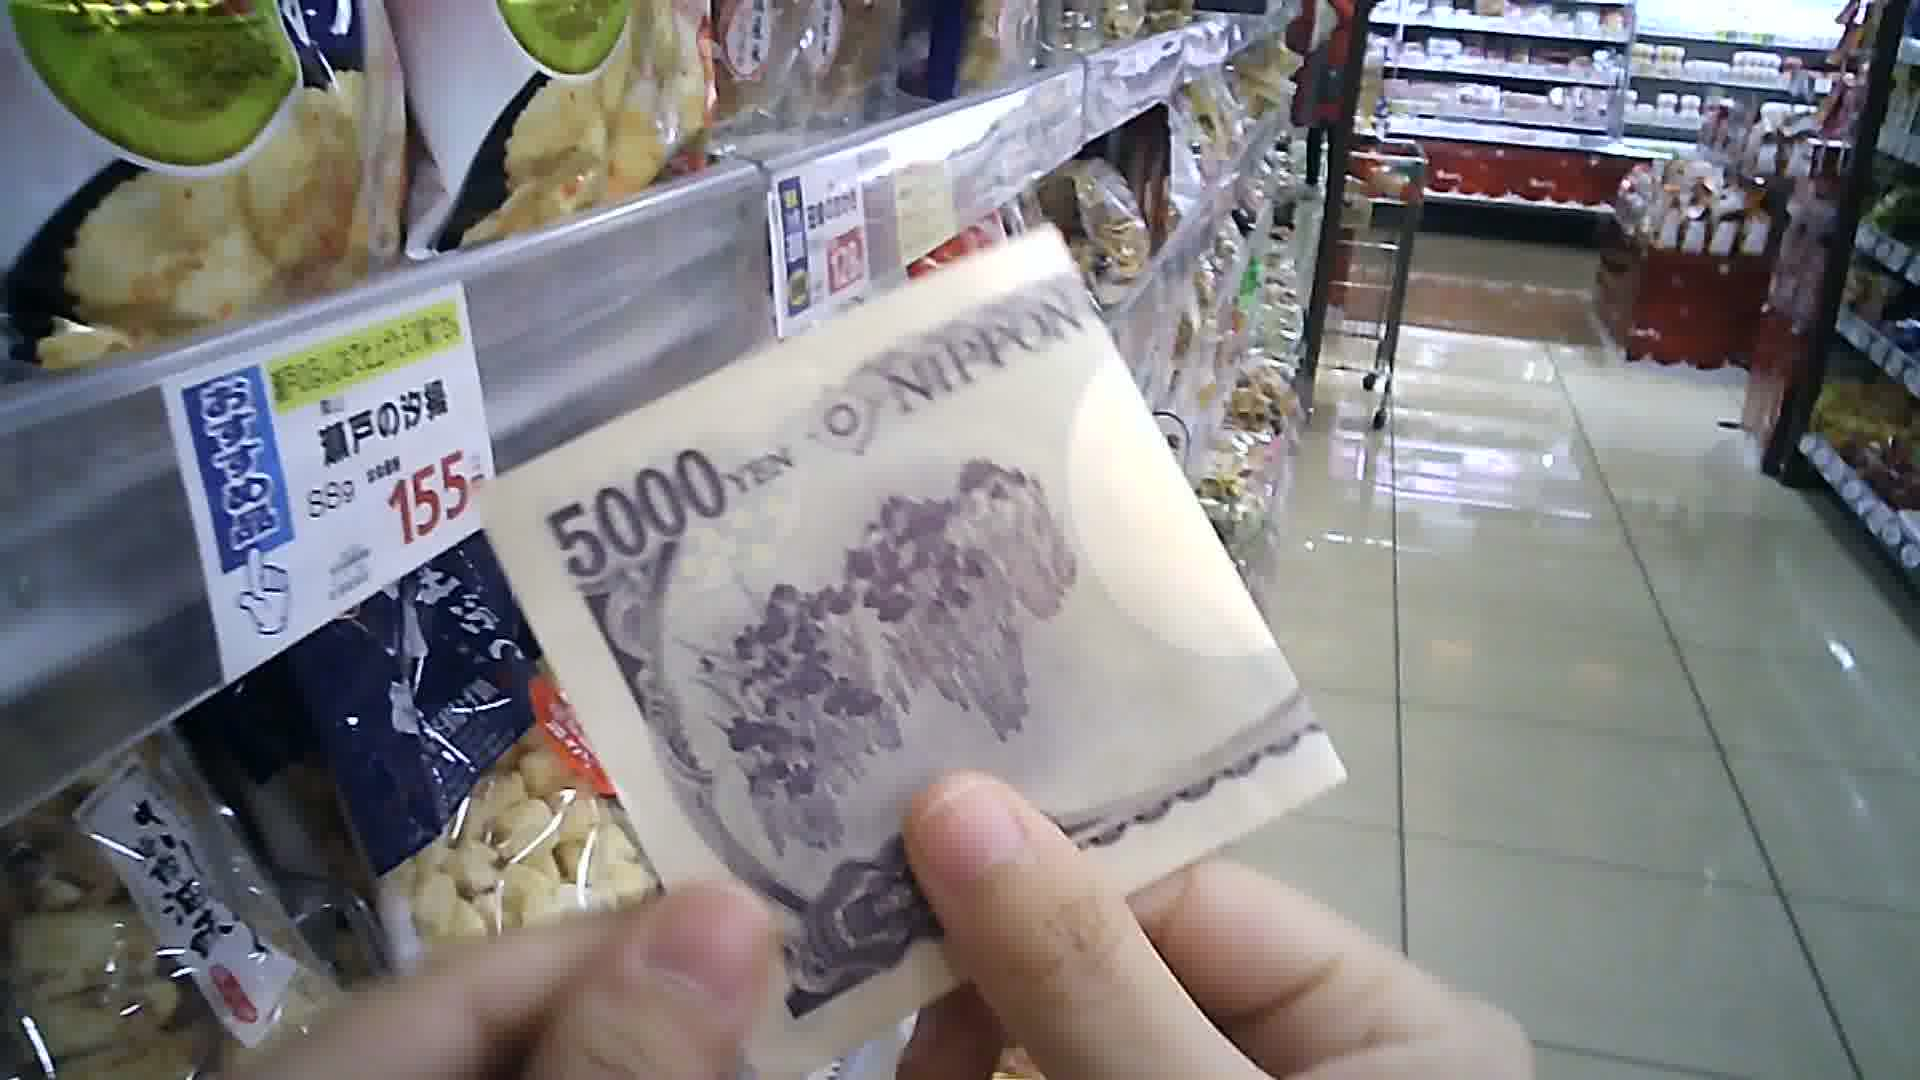5,000 Yen: (464, 227, 1360, 1055)
